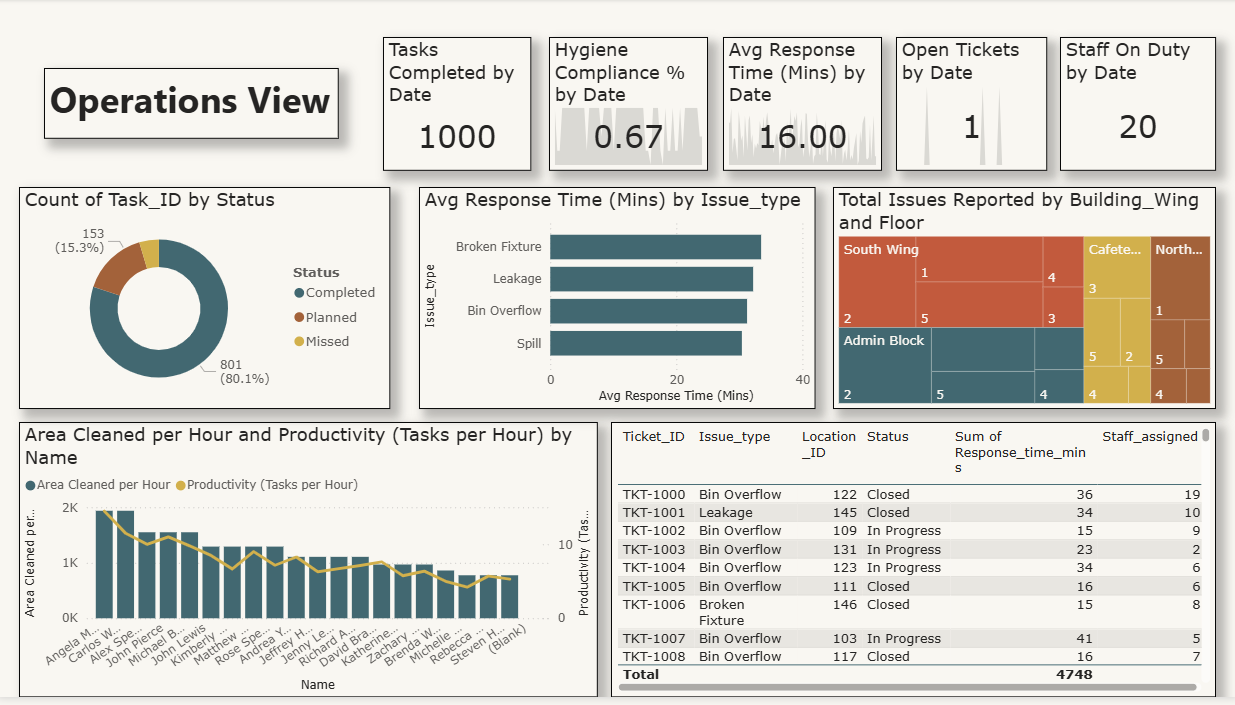

What the dashboard file says about the page in this screenshot:
{"tool":"powerbi","page":{"name":"Operations View","canvas":[1280,720],"ordinal":0},"visuals":[{"type":"kpi","title":"Tasks Completed","fields":{"Indicator":["_key_measures_.Tasks Completed"],"TrendLine":["Master_Date.Date"]},"box":[398.1,39.2,152.7,138.2],"z":0},{"type":"kpi","title":"Hygiene Compliance ","fields":{"Indicator":["_key_measures_.Hygiene Compliance %"],"TrendLine":["Master_Date.Date"]},"box":[569.3,39.2,164,138.2],"z":1000},{"type":"kpi","title":"Average Response Time","fields":{"Indicator":["_key_measures_.Avg Response Time (Mins)"],"TrendLine":["Master_Date.Date"]},"box":[748.8,39.2,164,138.2],"z":2000},{"type":"kpi","title":"Open Tickets","fields":{"Indicator":["_key_measures_.Open Tickets"],"TrendLine":["Master_Date.Date"]},"box":[927.3,39.2,155.7,138.2],"z":3000},{"type":"kpi","title":"Staff on Duty","fields":{"Indicator":["_key_measures_.Staff On Duty"],"TrendLine":["Master_Date.Date"]},"box":[1096.4,39.2,160.9,138.2],"z":4000},{"type":"lineStackedColumnComboChart","title":"Productivity and Area Cleaned by Name","fields":{"Category":["staff_cleaned.Name"],"Y":["_key_measures_.Area Cleaned per Hour"],"Y2":["_key_measures_.Productivity (Tasks per Hour)"]},"box":[22.7,436.3,601.3,283.6],"z":5000},{"type":"donutChart","title":"Task Status","fields":{"Category":["fvr_abd tasks.Status"],"Y":["CountNonNull(fvr_abd tasks.Task_ID)"]},"box":[22.7,193.9,382.7,229],"z":6000},{"type":"barChart","title":"Avg Response time","fields":{"Category":["tickets_cleaned.Issue_type"],"Y":["_key_measures_.Avg Response Time (Mins)"]},"box":[435.3,193.9,396.1,229],"z":7000},{"type":"treemap","title":"Issues Reported By Buildings","fields":{"Group":["dim_building.Building_Wing"],"Values":["_key_measures_.Total Issues Reported"],"Details":["dim_location.Floor"]},"box":[862.3,193.9,395,229],"z":8000},{"type":"tableEx","fields":{"Values":["tickets_cleaned.Ticket_ID","tickets_cleaned.Issue_type","tickets_cleaned.Location_ID","tickets_cleaned.Status","Sum(tickets_cleaned.Response_time_mins)","tickets_cleaned.Staff_assigned"]},"box":[633.3,436.3,624,283.6],"z":9000},{"type":"textbox","box":[48.5,71.2,304.3,73.2],"z":10000}]}

Visuals, with their boxes in screenshot pixels (x1, y1, x2, y2), scaled from the page's 1280x720 canvas onto the 1235x705 screenshot:
"Tasks Completed" kpi: box(384, 38, 531, 174)
"Hygiene Compliance " kpi: box(549, 38, 708, 174)
"Average Response Time" kpi: box(722, 38, 881, 174)
"Open Tickets" kpi: box(895, 38, 1045, 174)
"Staff on Duty" kpi: box(1058, 38, 1213, 174)
"Productivity and Area Cleaned by Name" lineStackedColumnComboChart: box(22, 427, 602, 704)
"Task Status" donutChart: box(22, 190, 391, 414)
"Avg Response time" barChart: box(420, 190, 802, 414)
"Issues Reported By Buildings" treemap: box(832, 190, 1213, 414)
tableEx - tickets_cleaned.Ticket_ID x tickets_cleaned.Issue_type: box(611, 427, 1213, 704)
textbox: box(47, 70, 340, 141)
